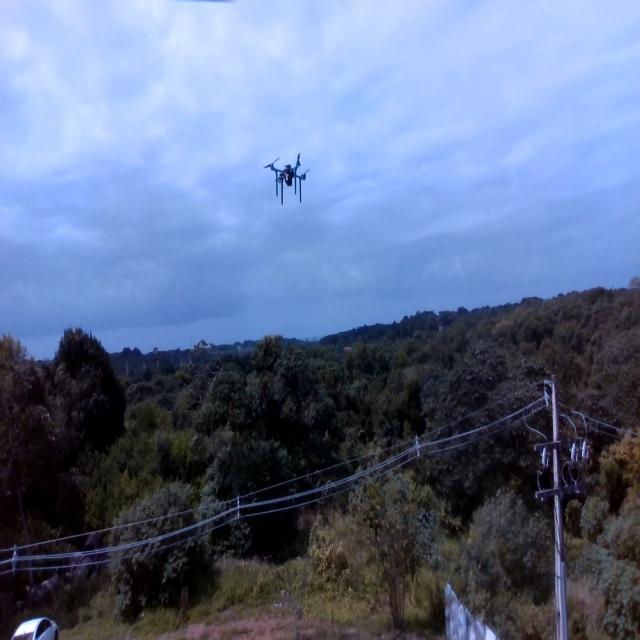-uav-: (256, 147, 314, 210)
